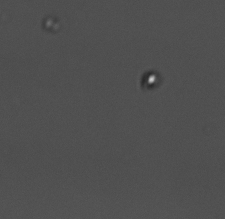Dead Cell: (43, 15, 61, 31)
Living Cell: (140, 70, 161, 89)
